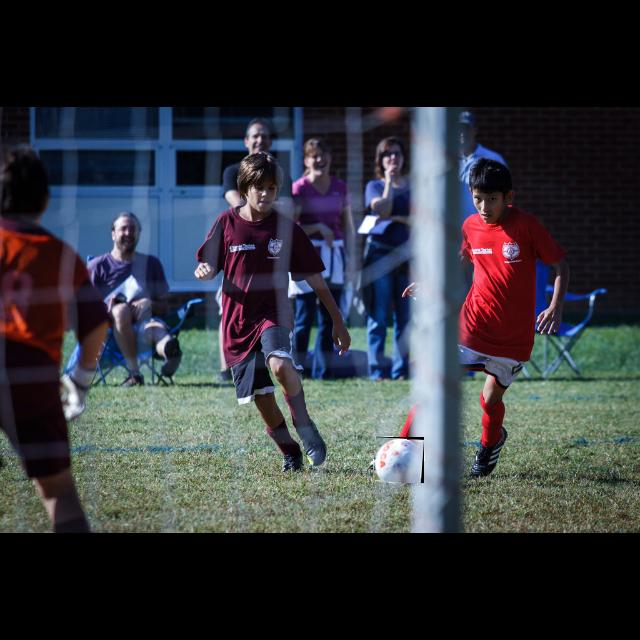Football: (374, 437, 424, 483)
